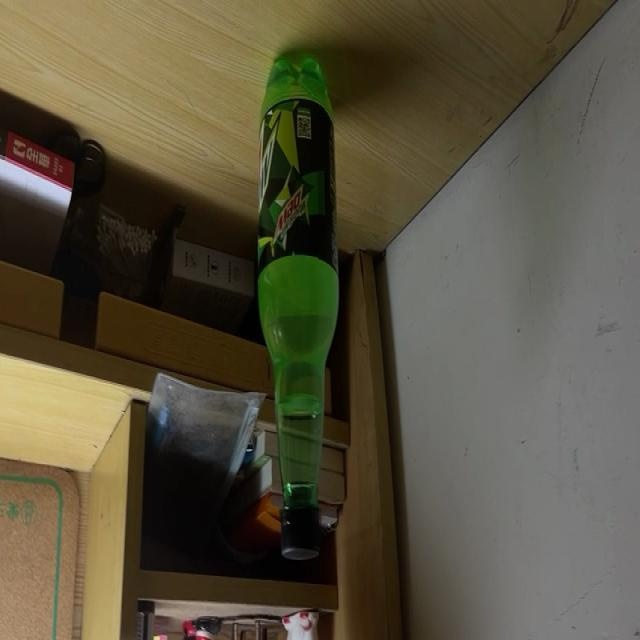Mountain-Dew: (256, 51, 340, 560)
